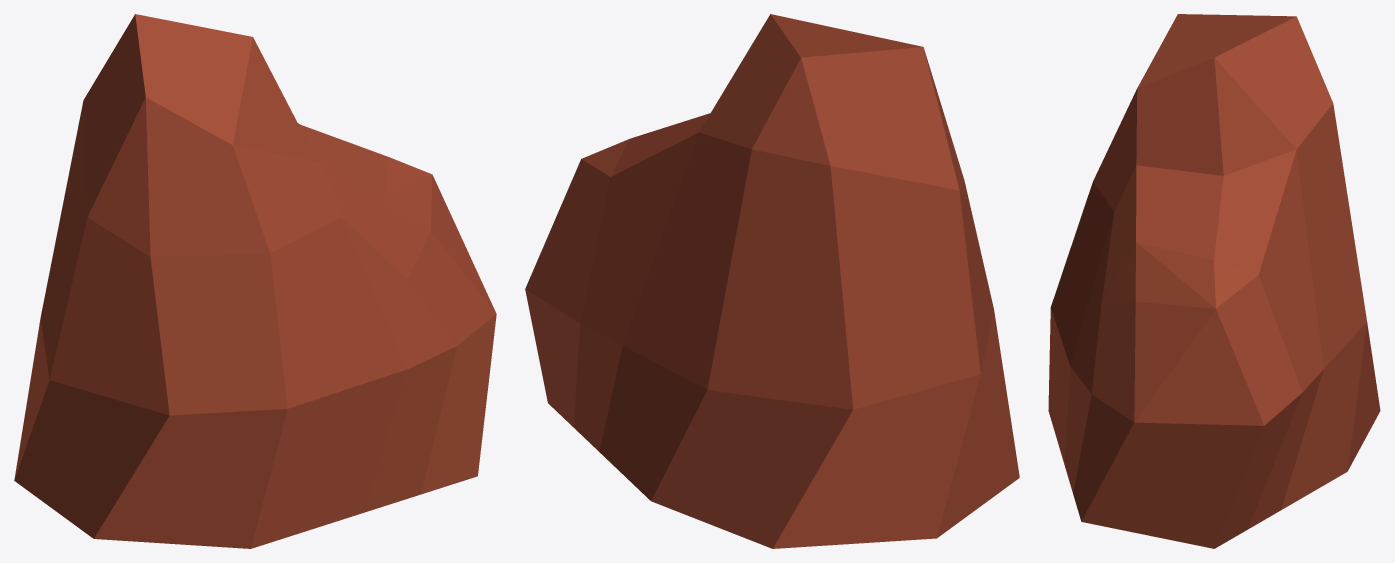
File: SandWall003.fbx
3 views of the same model, side by side, from view 1: azimuth 30°, elevation 25°; view 2: azimuth 150°, elevation 25°; view 3: azimuth 270°, elevation 25° (orthographic). The views are drawn at different scales.
Visible parts, largest first — view 1: Cylinder004; view 2: Cylinder004; view 3: Cylinder004.
Part boxes in pixels (x1,y1,x2,y2): Cylinder004: [14, 14, 496, 548]; Cylinder004: [525, 14, 1019, 548]; Cylinder004: [1048, 14, 1380, 548].
Size of the model in its own units: 605 by 602 by 450.
